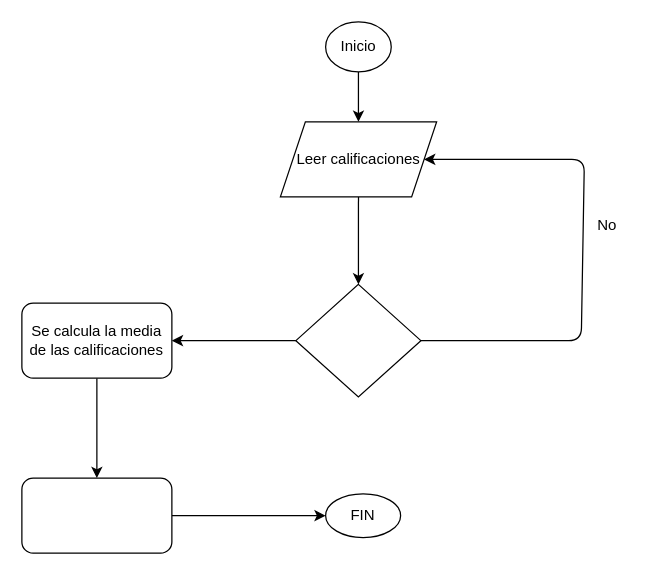
Image size: 653x575. Some labels were removed from this diagram. The shapes that lost their labels are listed below. From the top down, each one's centre as x and y in pixels, then its label:
At point (358, 340): "Son las calificaciones validas?".
At point (96, 515): "Se imprime por pantalla el resultado".
